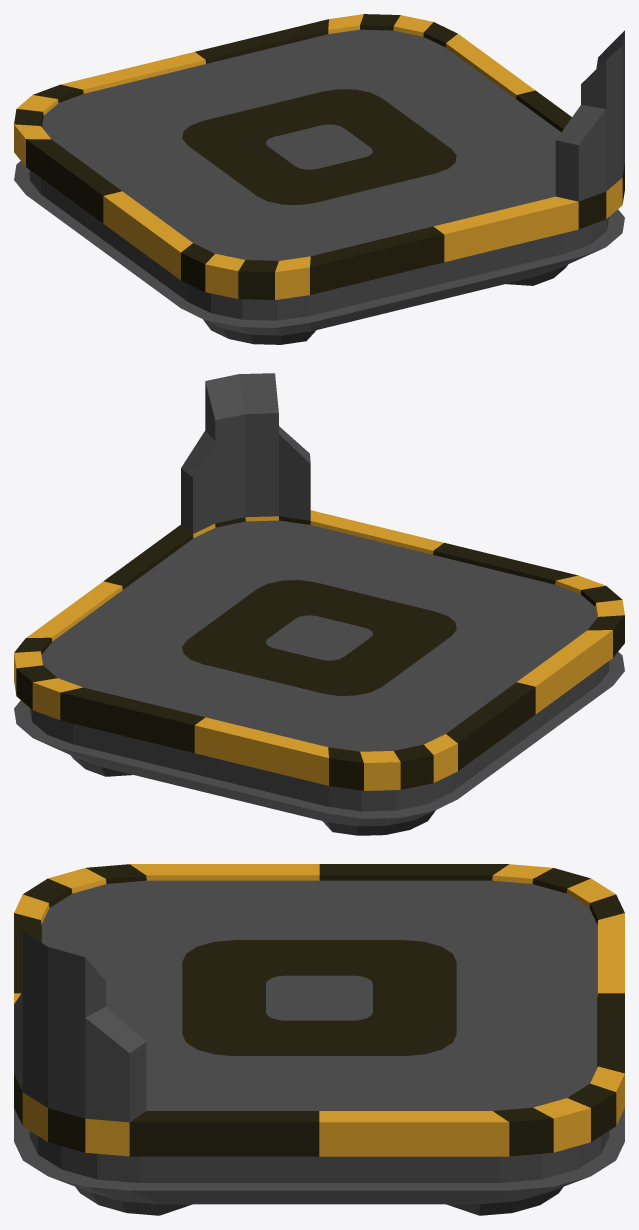
File: FlyingPlatform.fbx
The picture shows the model from 3 angles, top to bottom: view 1: azimuth 30°, elevation 25°; view 2: azimuth 150°, elevation 25°; view 3: azimuth 270°, elevation 25°; orthographic projection. The views are drawn at different scales.
Parts seen in each view (by area): view 1: FlyingPlatform, ControllPult; view 2: FlyingPlatform, ControllPult; view 3: FlyingPlatform, ControllPult.
Part boxes in pixels (x1=…): FlyingPlatform: x1=14, y1=14, x2=624, y2=344; ControllPult: x1=555, y1=30, x2=624, y2=201; FlyingPlatform: x1=14, y1=510, x2=624, y2=835; ControllPult: x1=181, y1=373, x2=310, y2=533; FlyingPlatform: x1=14, y1=864, x2=624, y2=1215; ControllPult: x1=14, y1=931, x2=146, y2=1122.
Bounding box in the file's own units: 200 × 101 × 200.
